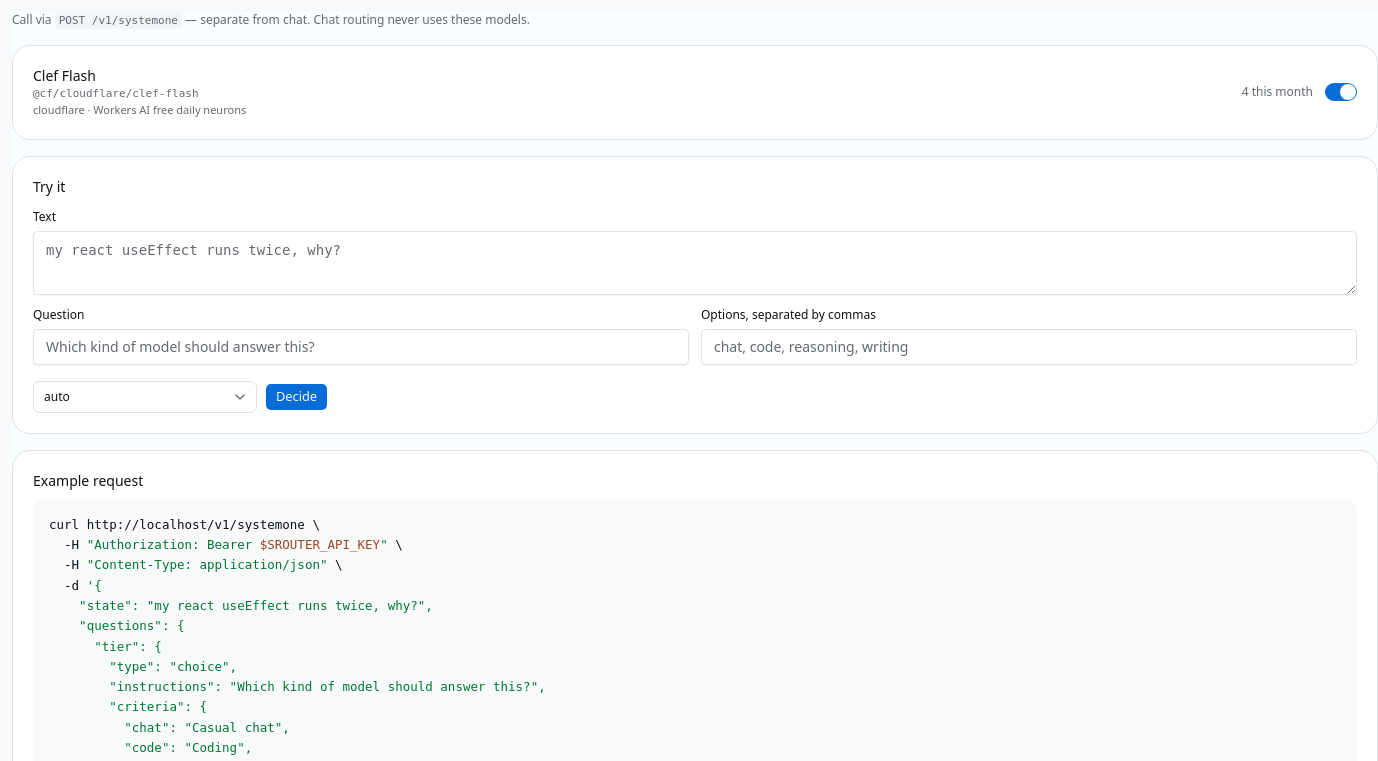
it: runs a test decision and shows the answer with probabilities
Click the button "Decide".
click(297, 397)  # box [265,383,328,411]
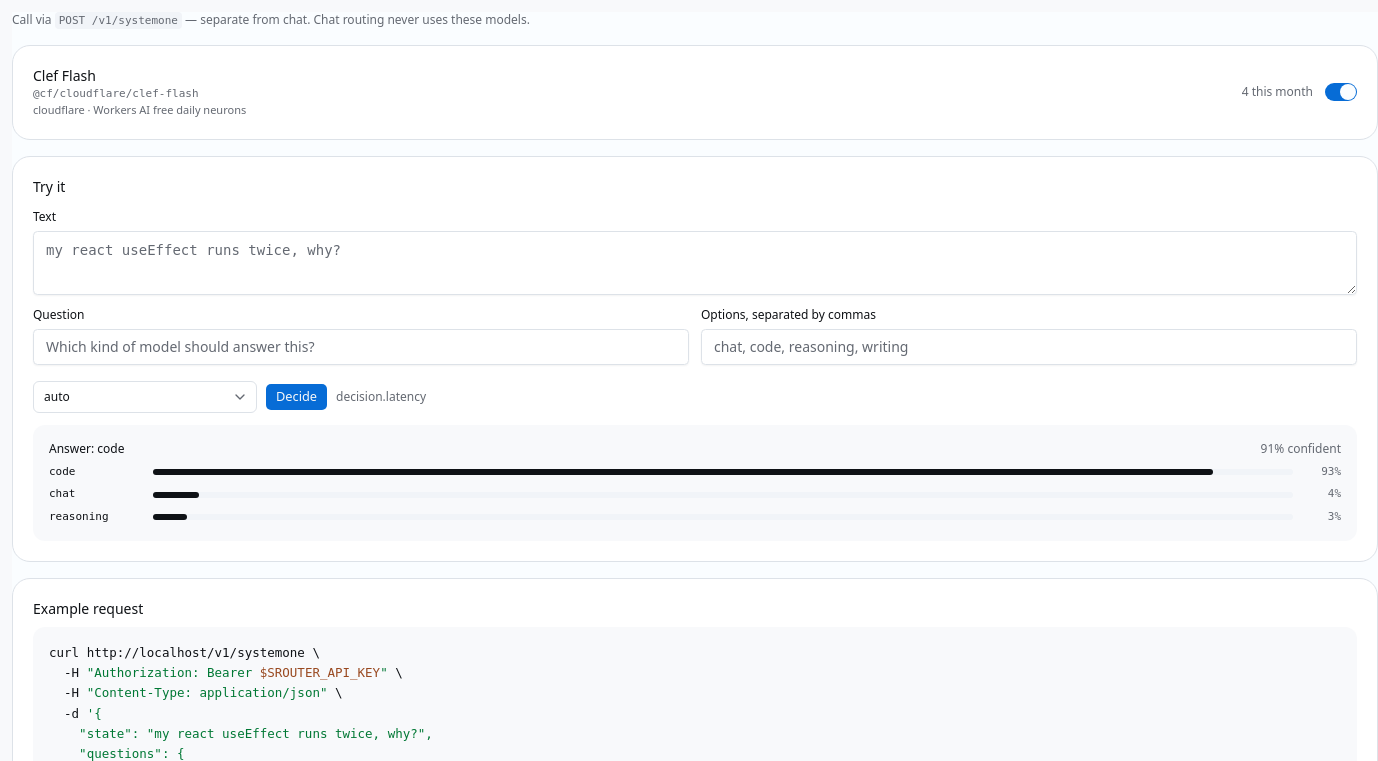
Check: the text "Answer: code" is shown, box [49,441,124,457]
Check: the text "91% confident" is shown, box [1261,441,1341,457]
Check: the text "93%" is shown, box [1321,465,1341,478]
